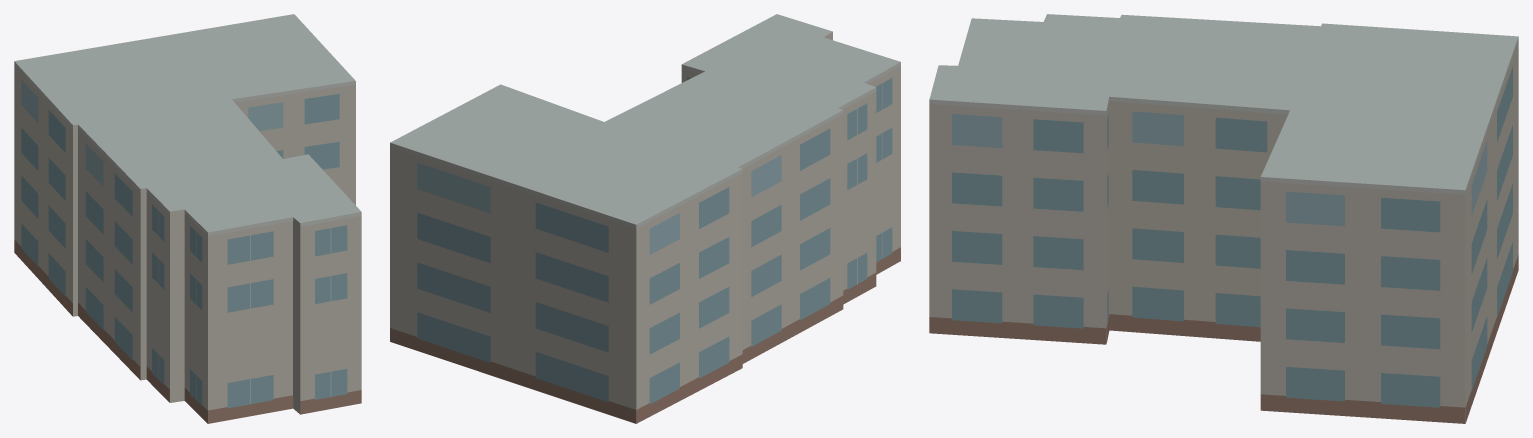
File: survey-upis-32514315.glb
3 renders of one model, left to right at view 1: azimuth 30°, elevation 25°; view 2: azimuth 150°, elevation 25°; view 3: azimuth 270°, elevation 25°, orthographic. The views are drawn at different scales.
Visible parts, largest first — view 1: survey-upis-32514315.tmp; view 2: survey-upis-32514315.tmp; view 3: survey-upis-32514315.tmp.
Boxes of the visible parts, <box> form: survey-upis-32514315.tmp: <box>14,14,361,423</box>; survey-upis-32514315.tmp: <box>390,14,900,423</box>; survey-upis-32514315.tmp: <box>929,14,1518,423</box>.
Size of the model in its own units: 20.15 by 12.45 by 28.46.
